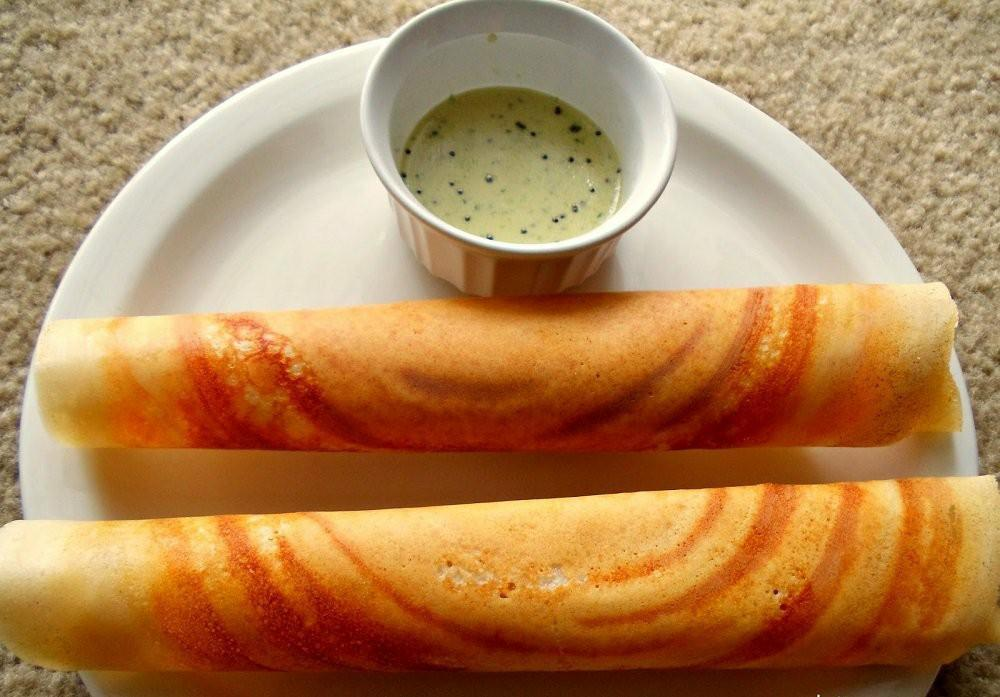CoconutChutney: (399, 86, 622, 245)
Dosa: (1, 477, 1000, 677), (31, 278, 967, 450)
